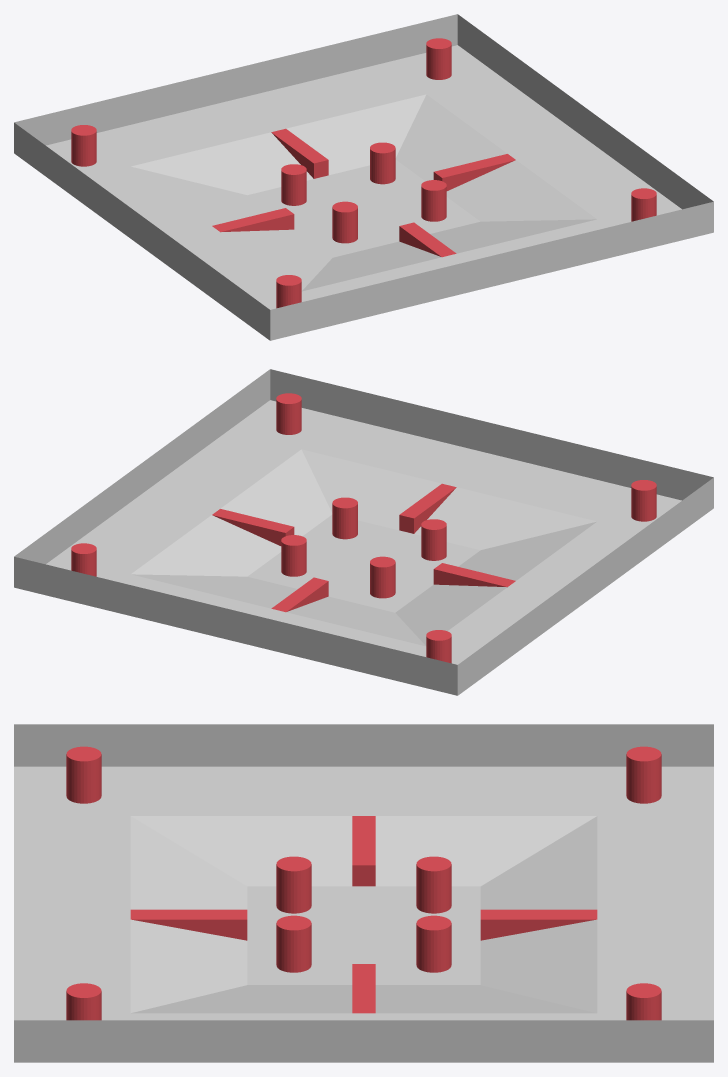
Rendered from arena.glb.
3 renders of one model, top to bottom at view 1: azimuth 30°, elevation 25°; view 2: azimuth 150°, elevation 25°; view 3: azimuth 270°, elevation 25°, orthographic. The views are drawn at different scales.
Parts seen in each view (by area): view 1: Arena-col; view 2: Arena-col; view 3: Arena-col.
Part boxes in pixels (x1,y1,x2,y2): Arena-col: (14,14,713,340); Arena-col: (14,369,713,695); Arena-col: (14,724,713,1062).
Size of the model in its own units: 60 by 6 by 60.
